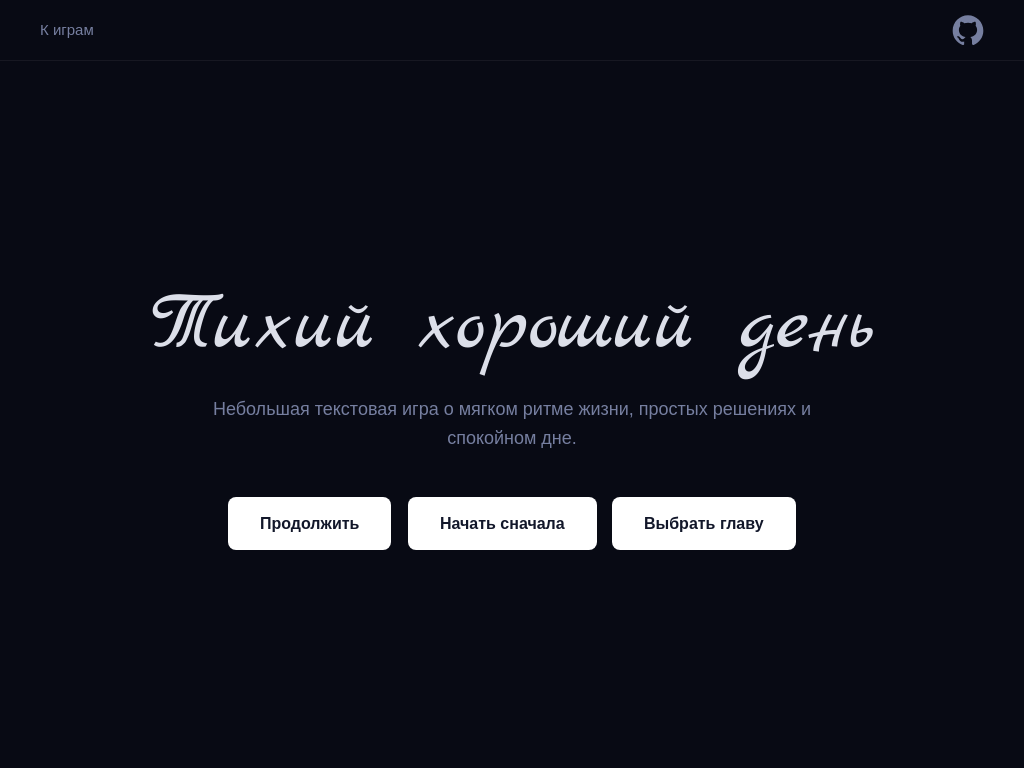
Scenario: routing: navigation from the menu › Выбрать главу opens the chapter select screen
The image size is (1024, 768).
What coordinates should you click on to do the following:
click the button "Выбрать главу"
I would click on:
 (704, 524)
Its box is [612,497,796,550].
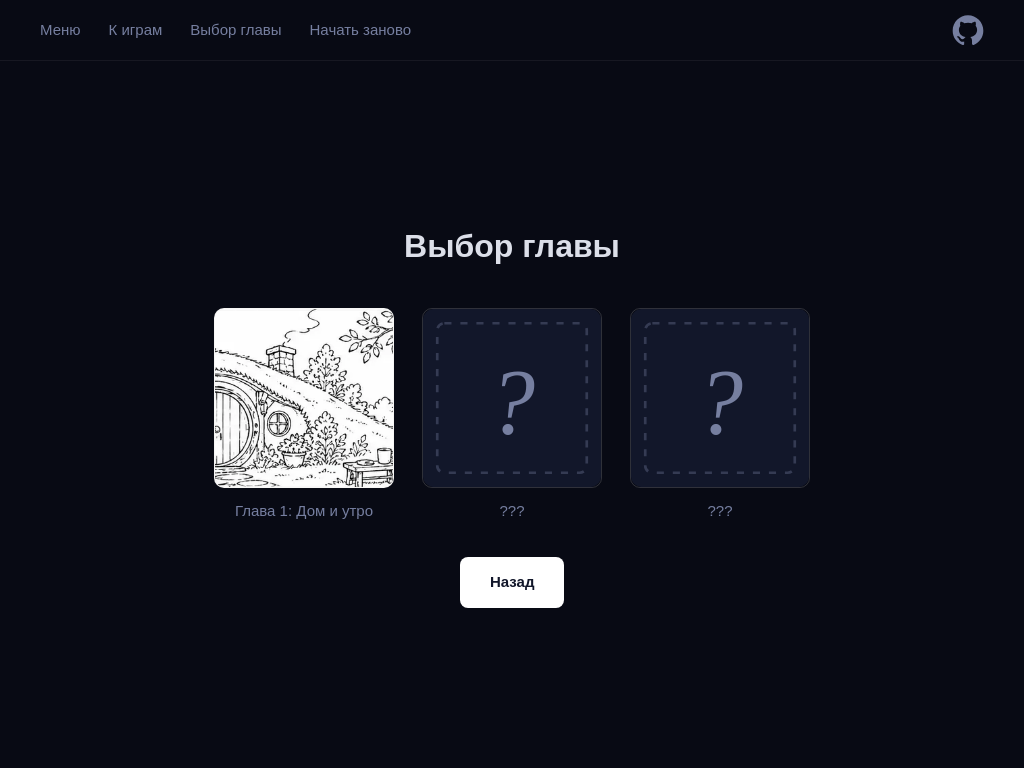
Now the heading "Выбор главы" is shown, box [404,222,620,272]
